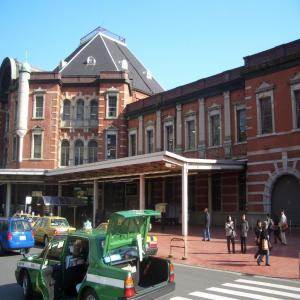Vehicle-registration-plate: (20, 237, 28, 240)
